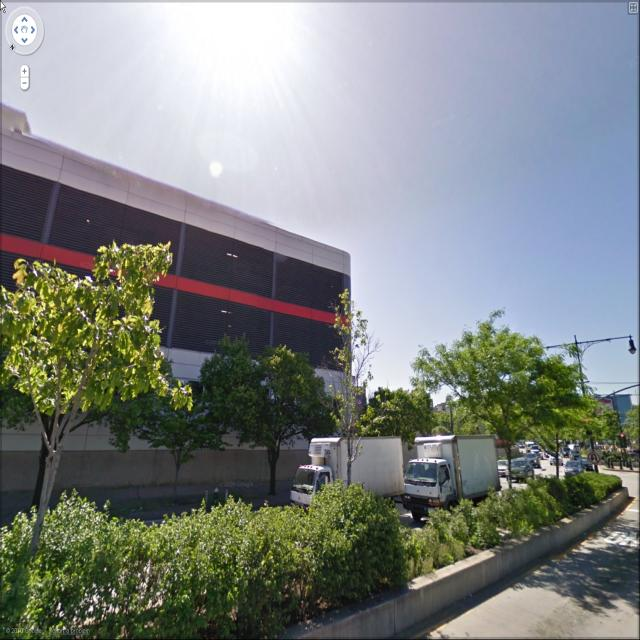b_2: (1, 102, 360, 413), (583, 383, 640, 446)
